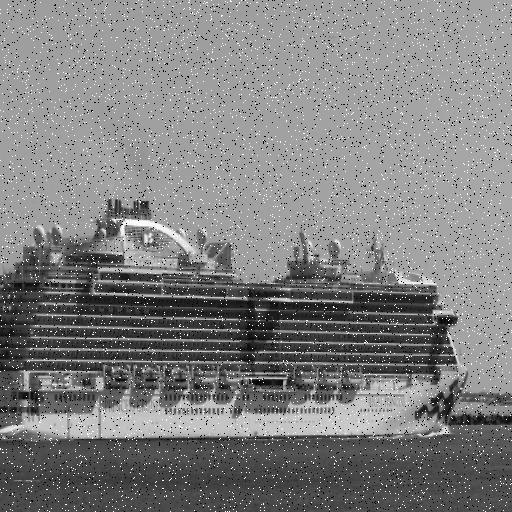cruises: (1, 196, 474, 450)
